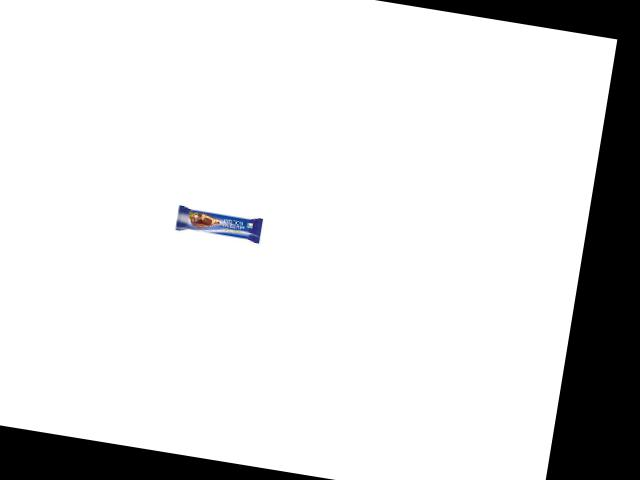chocolate: (163, 195, 266, 245)
